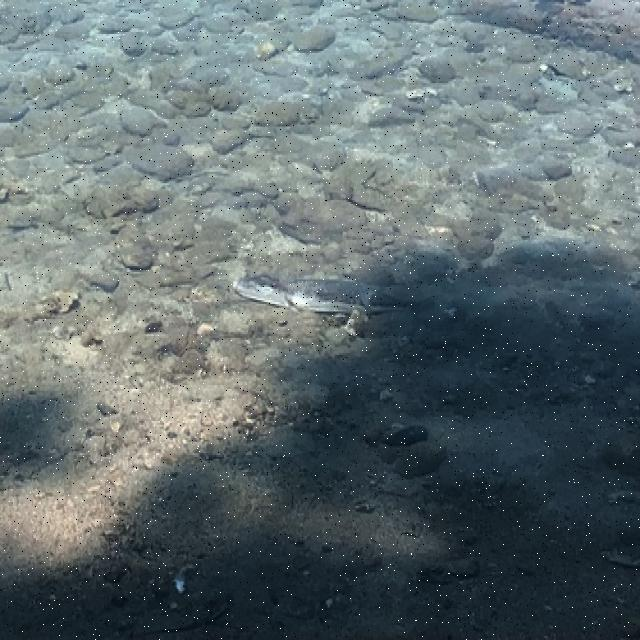Balik: (234, 274, 410, 312)
